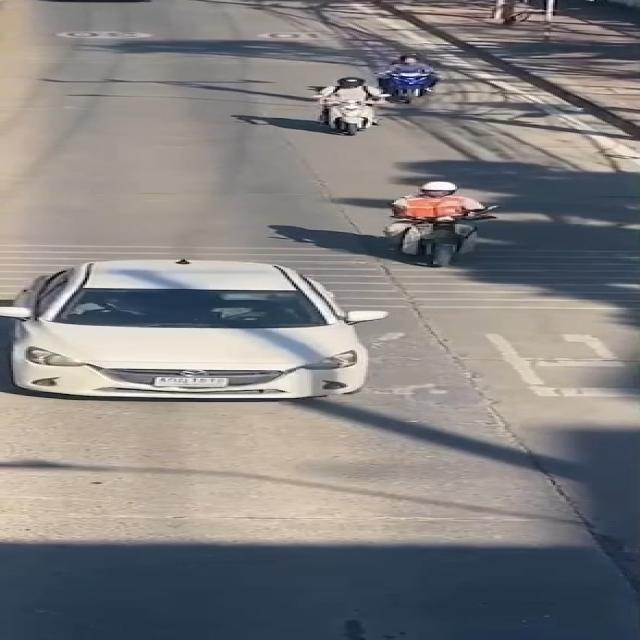car: (0, 250, 394, 419)
